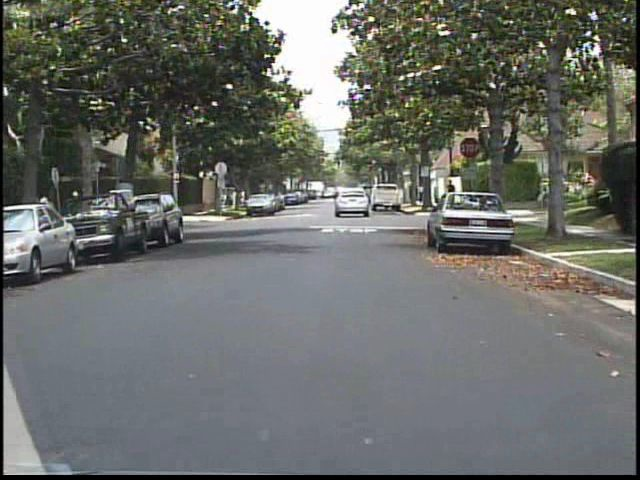person: (36, 185, 62, 259), (442, 176, 460, 213), (417, 183, 425, 204)
